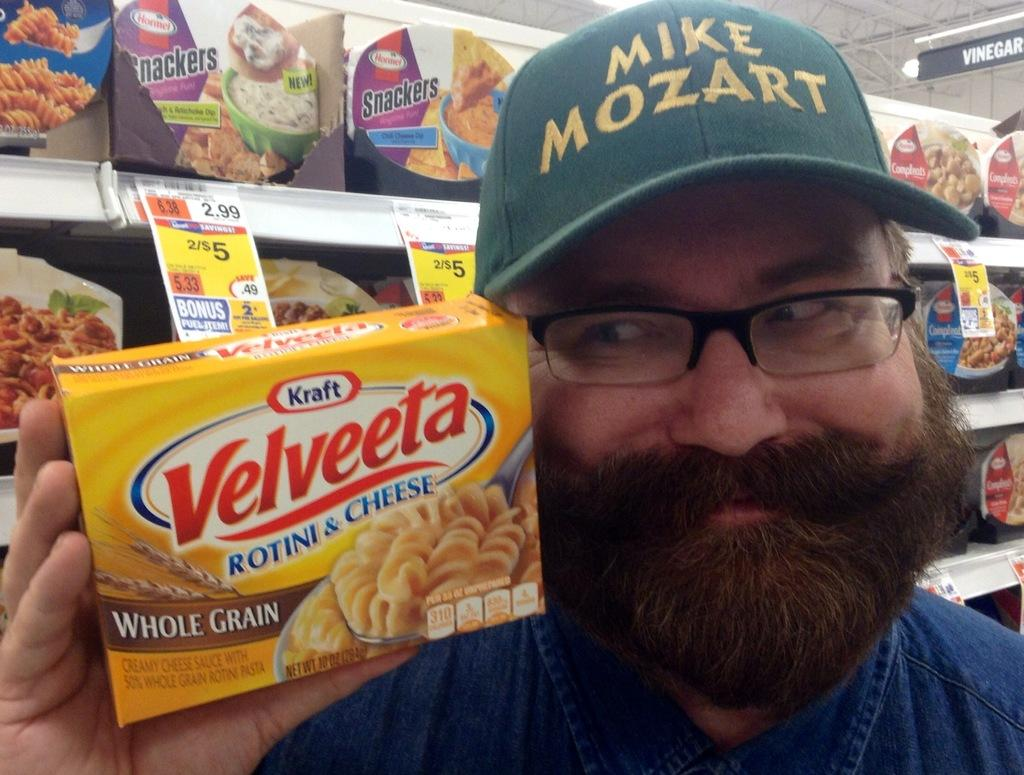Hat: (470, 0, 976, 295)
